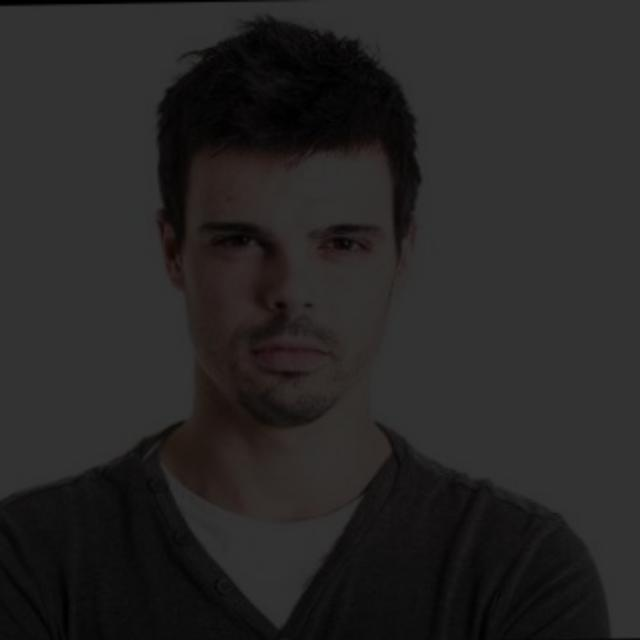Natural: (157, 132, 400, 394)
